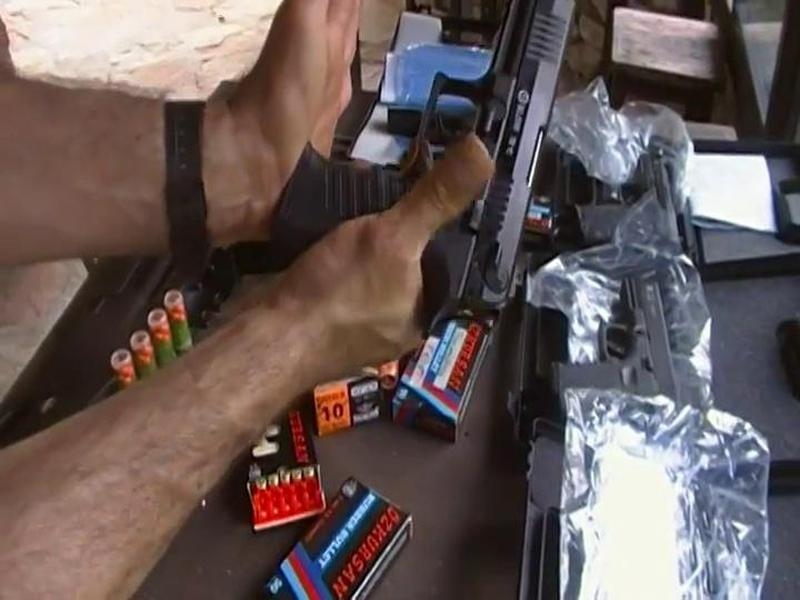Pistola: (272, 1, 591, 326)
